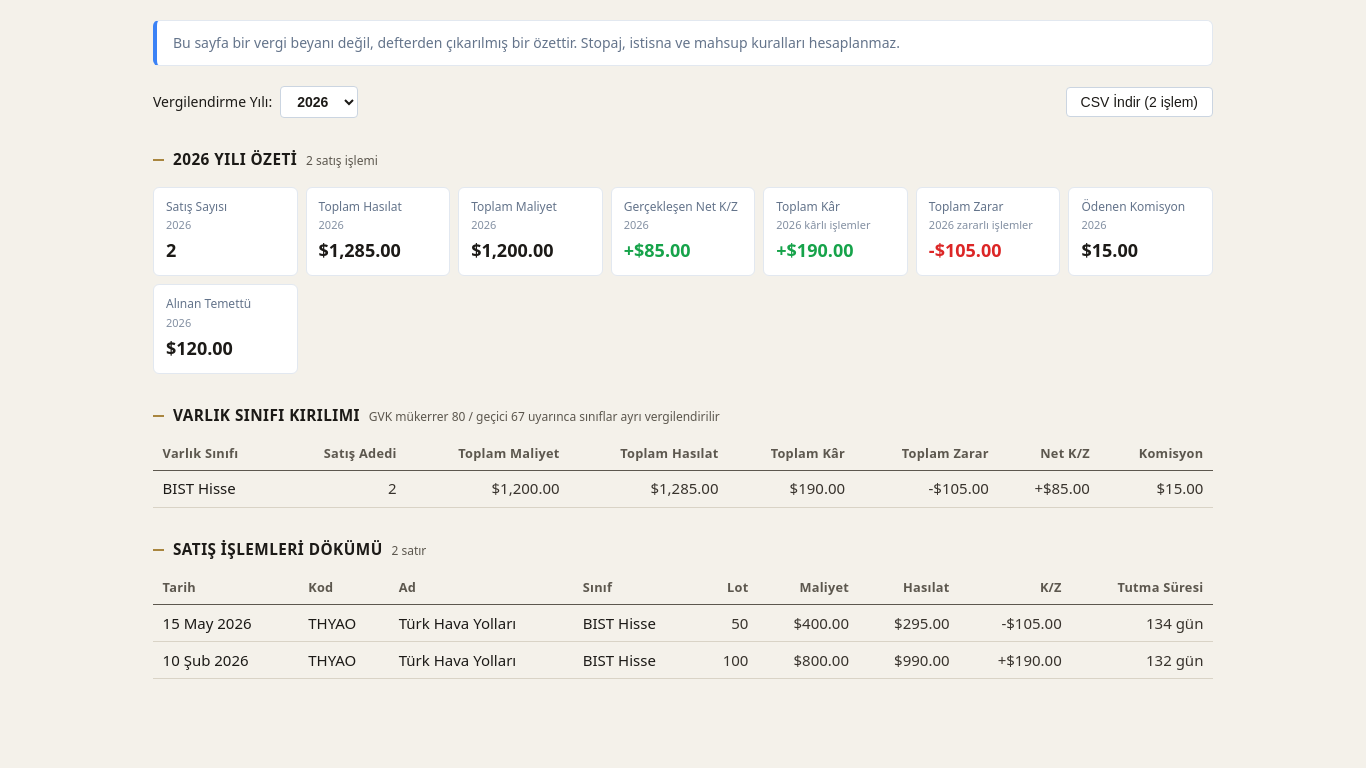
Test: Vergi.svelte (I7) › shows empty state when a year with no sales is selected and does not crash
Select "2024" in the dropdown labelled "Vergilendirme Yılı:". click: (319, 102)
box: top-left (280, 86), bottom-right (358, 118)
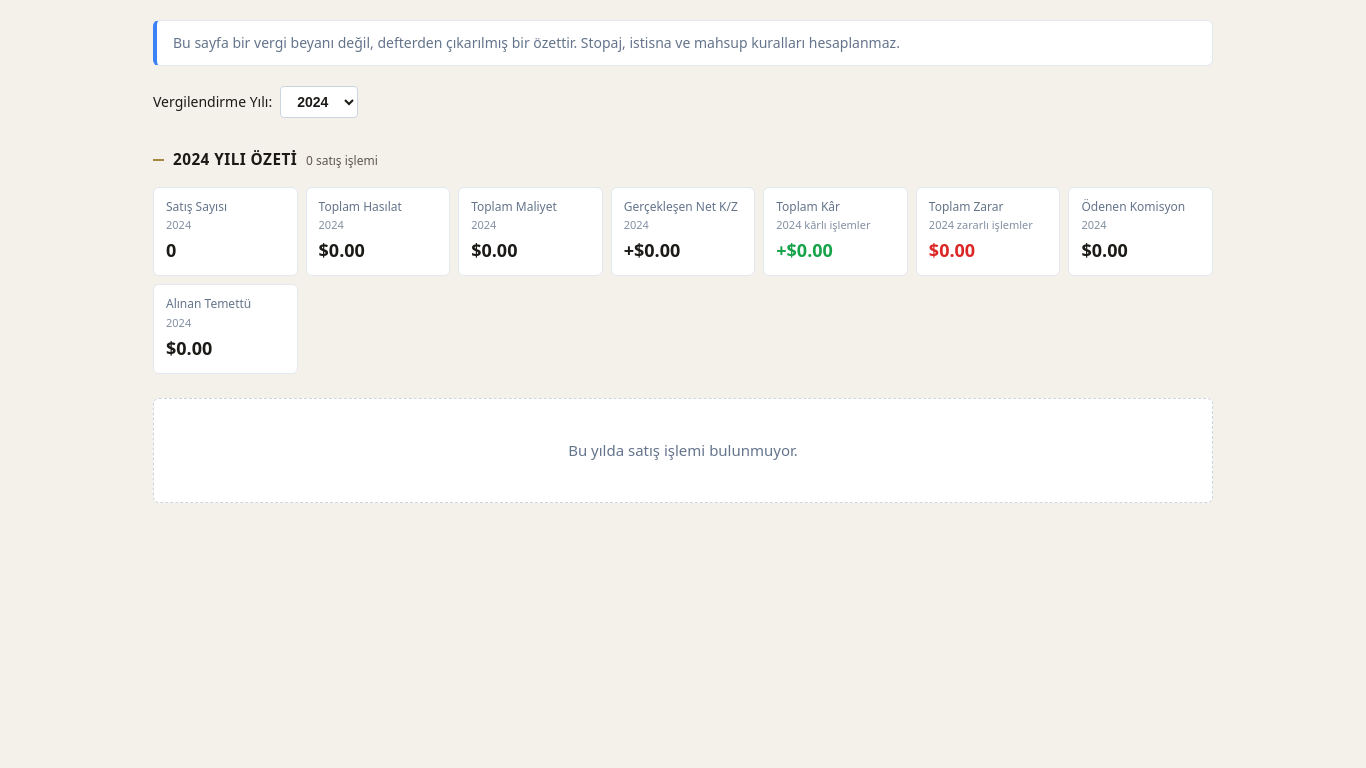
Now the element with test id "empty-year-msg" is shown, box top-left (153, 398), bottom-right (1213, 503)
Now the element with test id "empty-year-msg" reads "Bu yılda satış işlemi bulunmuyor.", box top-left (568, 440), bottom-right (798, 460)
Now the text "Satış Sayısı 2024 0" is shown, box top-left (153, 187), bottom-right (298, 276)
